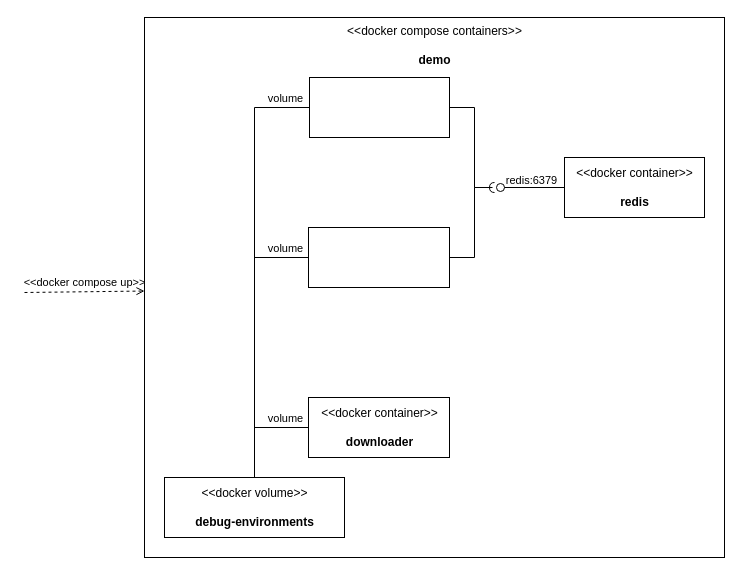
The diagram is 742 pixels wide and 575 high, and some of its shapes have lost their labels. The shapes that lost their labels are listed below. From the top down, each one's box as (x1, y1, x2, y2) in pixels, then its label:
(308, 76, 450, 138): <<docker container>> submission
(308, 226, 450, 288): <<docker container>> evaluator
